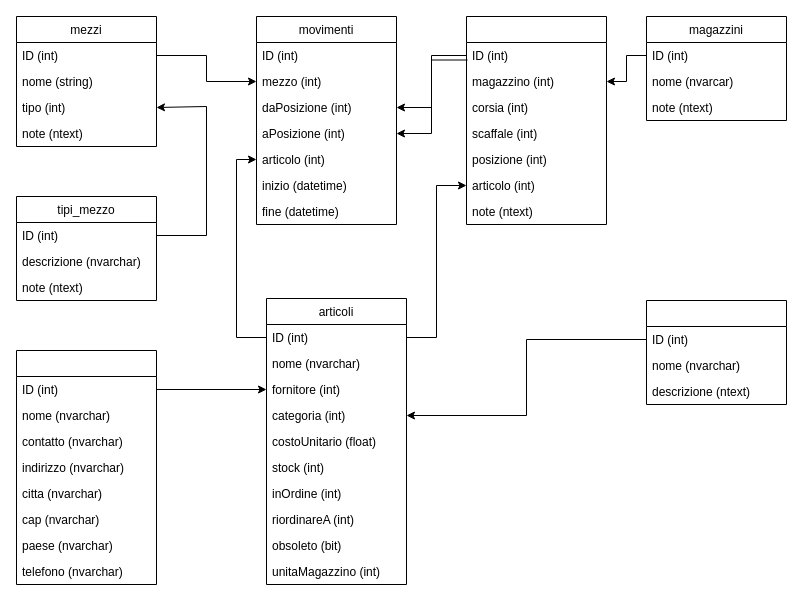
This 803x601 diagram has some shape labels left out. Each missing label, with the box of its shape:
categorie: (646, 300, 786, 404)
fornitori: (16, 350, 156, 584)
posizioni: (466, 16, 606, 224)
